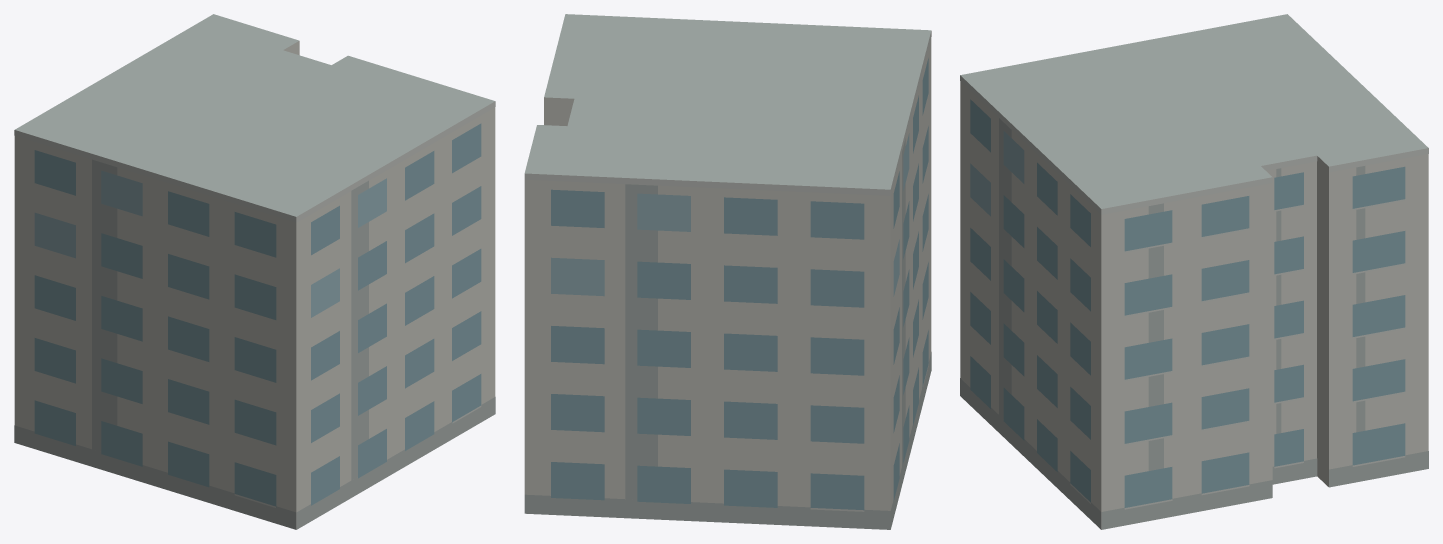
Rendered from survey-upis-32745672.glb.
3 views of the same model, side by side, from view 1: azimuth 30°, elevation 25°; view 2: azimuth 150°, elevation 25°; view 3: azimuth 270°, elevation 25° (orthographic). The views are drawn at different scales.
Visible parts, largest first — view 1: survey-upis-32745672.tmp; view 2: survey-upis-32745672.tmp; view 3: survey-upis-32745672.tmp.
Boxes of the visible parts, left/top/right/bottom form: survey-upis-32745672.tmp: left=14, top=14, right=495, bottom=529; survey-upis-32745672.tmp: left=524, top=14, right=931, bottom=529; survey-upis-32745672.tmp: left=960, top=14, right=1428, bottom=529.
Size of the model in its own units: 17.23 by 13.2 by 17.49.
